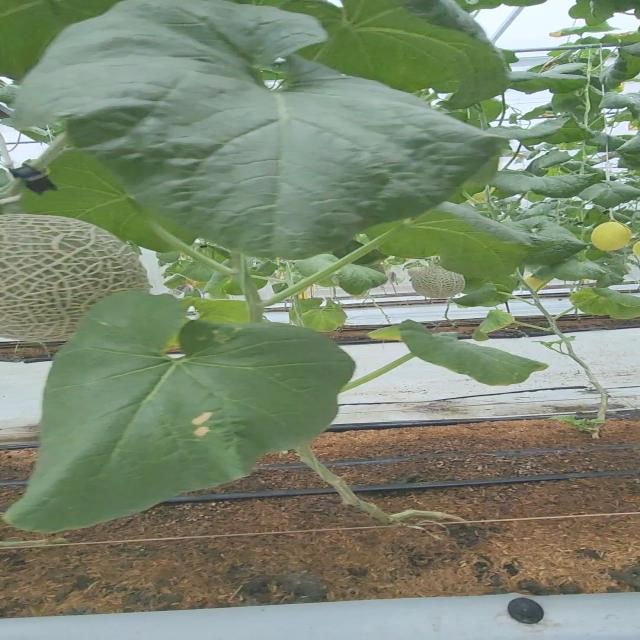Front-melon: (0, 216, 108, 339)
Rear-melon: (411, 267, 461, 297), (593, 221, 631, 249)
